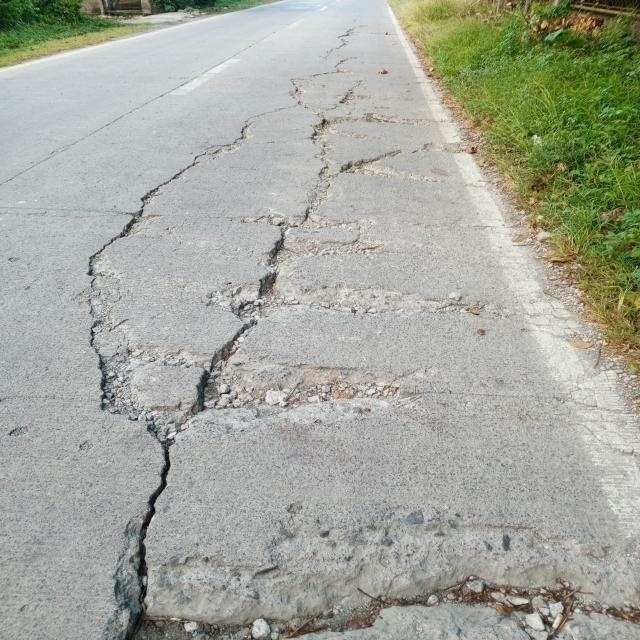pothole: (46, 94, 640, 640)
